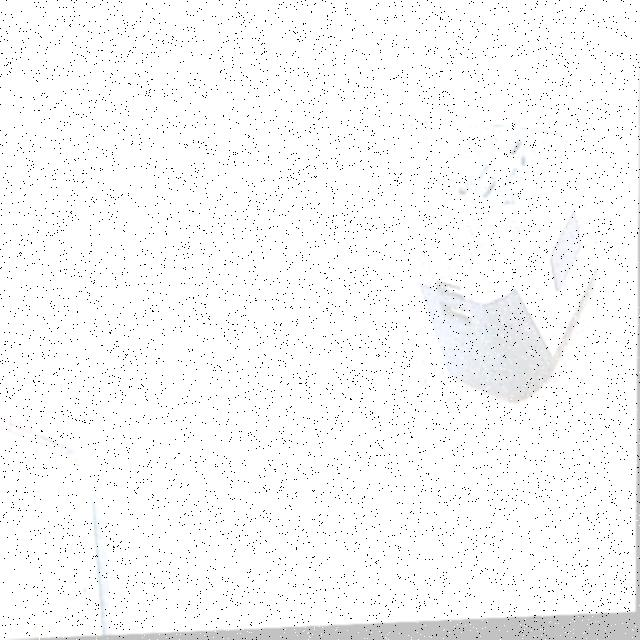adapter: (405, 120, 599, 411)
